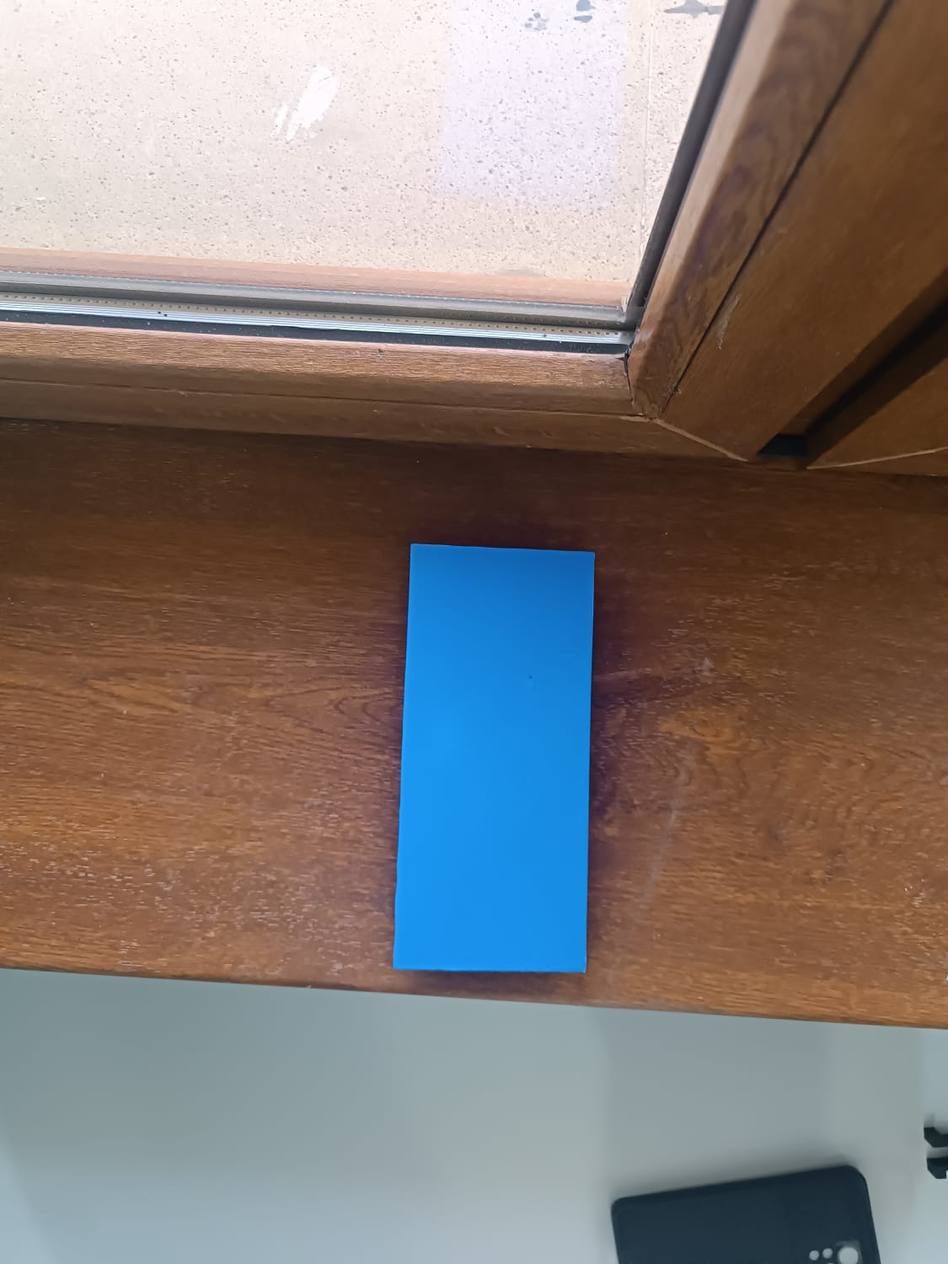Rectangular: (389, 535, 602, 982)
